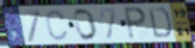7: (98, 7, 118, 41), (21, 9, 41, 42)
C: (45, 8, 70, 42)
D: (147, 6, 173, 40)
O: (72, 7, 99, 42)
P: (122, 5, 148, 42)
